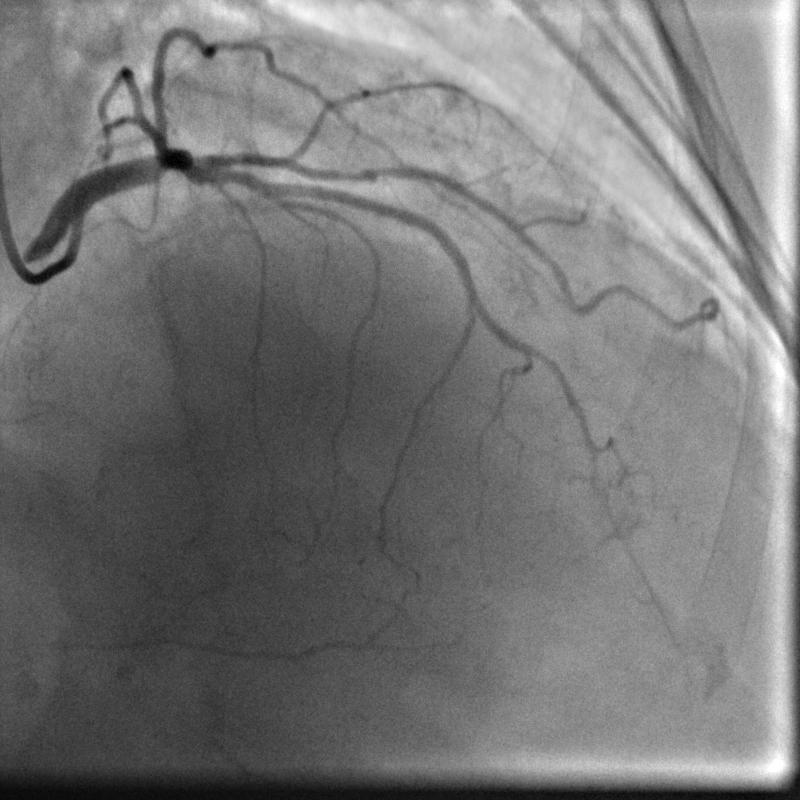Stenosis: (327, 157, 404, 186)
